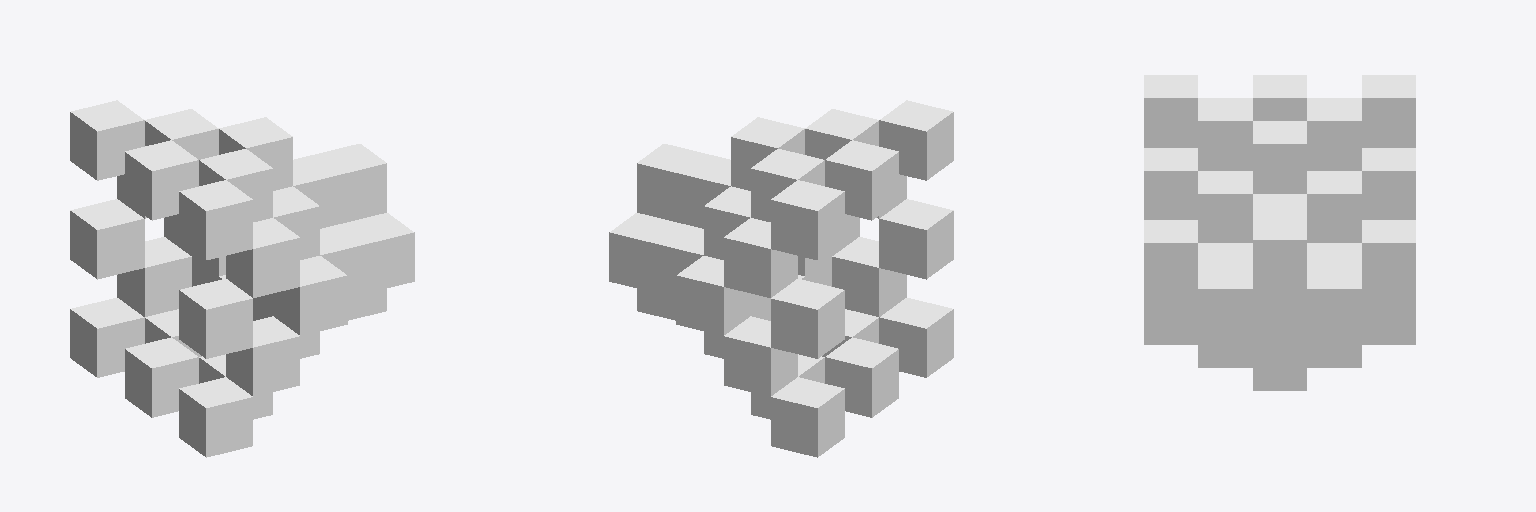
Rendered from muzzle_flame.obj.
The picture shows the model from 3 angles: view 1: azimuth 30°, elevation 25°; view 2: azimuth 150°, elevation 25°; view 3: azimuth 270°, elevation 25°; orthographic projection.
Visible parts, largest first — view 1: object 1; view 2: object 1; view 3: object 1.
Boxes of the visible parts, x1=… form: object 1: x1=70, y1=100, x2=414, y2=457; object 1: x1=609, y1=100, x2=953, y2=457; object 1: x1=1144, y1=75, x2=1415, y2=390.
Bounding box in the file's own units: 0.5 × 0.5 × 0.5.